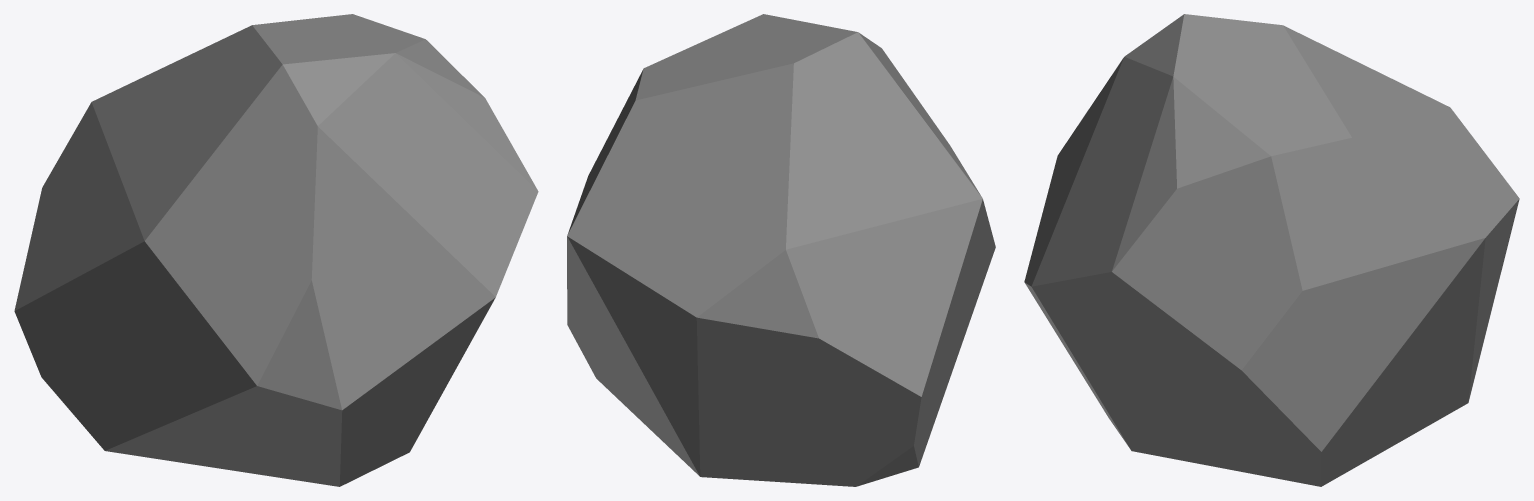
The model's file is Rock6.fbx.
The picture shows the model from 3 angles, left to right: view 1: azimuth 30°, elevation 25°; view 2: azimuth 150°, elevation 25°; view 3: azimuth 270°, elevation 25°; orthographic projection. The views are drawn at different scales.
Parts seen in each view (by area): view 1: Cube.003; view 2: Cube.003; view 3: Cube.003.
Part boxes in pixels (x1,y1,x2,y2): Cube.003: (14, 14, 538, 486); Cube.003: (567, 14, 995, 486); Cube.003: (1024, 14, 1519, 486).
Size of the model in its own units: 1233 by 1114 by 1267.
